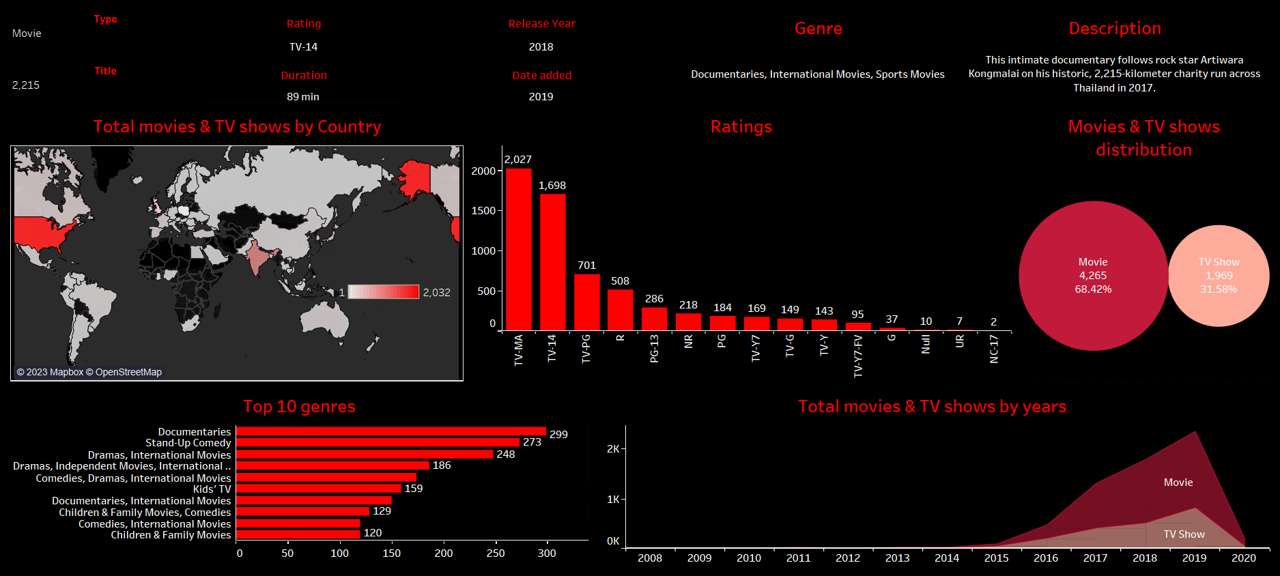

Layout of this report page (visuals, bound fields, positions):
{"tool":"tableau","page":{"name":"Netflix","canvas":[1500,675],"ordinal":0},"visuals":[{"type":"filter","title":"Description","param":"[federated.1q4i8f20r4kd3r10zpjgc016xosj].[none:type:nk]","box":[8,8,231,61]},{"type":"worksheet","title":"Rating","mark":"Automatic","box":[239,8,234,61]},{"type":"worksheet","title":"Release Year","mark":"Automatic","box":[473,8,324,61]},{"type":"worksheet","title":"genre","mark":"Automatic","box":[797,8,324,115]},{"type":"worksheet","title":"Description","mark":"Automatic","box":[1121,8,371,115]},{"type":"filter","title":"Description","param":"[federated.1q4i8f20r4kd3r10zpjgc016xosj].[none:title:nk]","box":[8,69,231,54]},{"type":"worksheet","title":"Duration","mark":"Automatic","box":[239,69,234,54]},{"type":"worksheet","title":"Date Added","mark":"Automatic","box":[473,69,324,54]},{"type":"worksheet","title":"Total movies & TV shows by country","mark":"Multipolygon","box":[8,123,540,327.7]},{"type":"worksheet","title":"Ratings","mark":"Automatic","rows":["show_id"],"cols":["rating"],"box":[548,123,641,327.7]},{"type":"worksheet","title":"Movies & TV shows distribution","mark":"Circle","box":[1189,123,303,327.7]},{"type":"legend","title":"Total movies & TV shows by country","param":"[federated.1q4i8f20r4kd3r10zpjgc016xosj].[ctd:show_id:qk]","box":[393,330,140,39]},{"type":"worksheet","title":"Top 10 genres","mark":"Automatic","rows":["listed_in"],"cols":["show_id"],"box":[8,450.7,685,216.3]},{"type":"worksheet","title":"Total movies & TV shows by years","mark":"Area","rows":["show_id"],"cols":["date_added"],"box":[693,450.7,799,216.3]}]}

Visuals, with their boxes in screenshot pixels (x1, y1, x2, y2), scaled from the page's 1500x675 canvas onto the 1280x576 screenshot:
"Description" filter: {"x1": 7, "y1": 7, "x2": 204, "y2": 59}
"Rating" worksheet: {"x1": 204, "y1": 7, "x2": 404, "y2": 59}
"Release Year" worksheet: {"x1": 404, "y1": 7, "x2": 680, "y2": 59}
"genre" worksheet: {"x1": 680, "y1": 7, "x2": 957, "y2": 105}
"Description" worksheet: {"x1": 957, "y1": 7, "x2": 1273, "y2": 105}
"Description" filter: {"x1": 7, "y1": 59, "x2": 204, "y2": 105}
"Duration" worksheet: {"x1": 204, "y1": 59, "x2": 404, "y2": 105}
"Date Added" worksheet: {"x1": 404, "y1": 59, "x2": 680, "y2": 105}
"Total movies & TV shows by country" worksheet (Multipolygon marks): {"x1": 7, "y1": 105, "x2": 468, "y2": 385}
"Ratings" worksheet: {"x1": 468, "y1": 105, "x2": 1015, "y2": 385}
"Movies & TV shows distribution" worksheet (Circle marks): {"x1": 1015, "y1": 105, "x2": 1273, "y2": 385}
"Total movies & TV shows by country" legend: {"x1": 335, "y1": 282, "x2": 455, "y2": 315}
"Top 10 genres" worksheet: {"x1": 7, "y1": 385, "x2": 591, "y2": 569}
"Total movies & TV shows by years" worksheet (Area marks): {"x1": 591, "y1": 385, "x2": 1273, "y2": 569}
